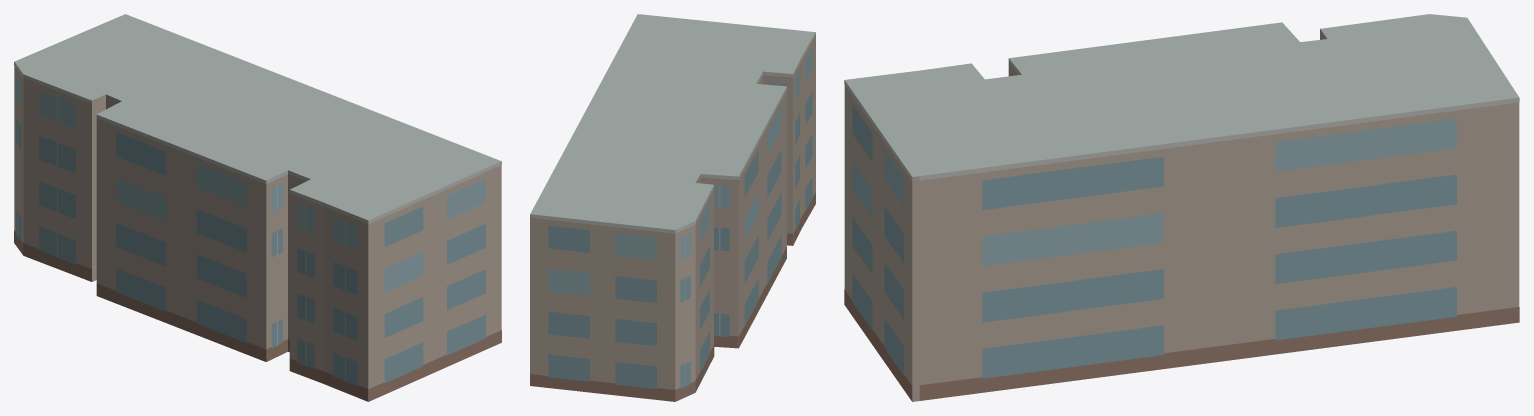
The model's file is survey-upis-32524490.glb.
The picture shows the model from 3 angles, left to right: view 1: azimuth 30°, elevation 25°; view 2: azimuth 150°, elevation 25°; view 3: azimuth 270°, elevation 25°; orthographic projection. The views are drawn at different scales.
Visible parts, largest first — view 1: survey-upis-32524490.tmp; view 2: survey-upis-32524490.tmp; view 3: survey-upis-32524490.tmp.
Boxes of the visible parts, left/top/right/bottom form: survey-upis-32524490.tmp: left=14, top=14, right=501, bottom=401; survey-upis-32524490.tmp: left=530, top=14, right=815, bottom=401; survey-upis-32524490.tmp: left=844, top=14, right=1519, bottom=401.
Size of the model in its own units: 18.36 by 11.8 by 32.11.
